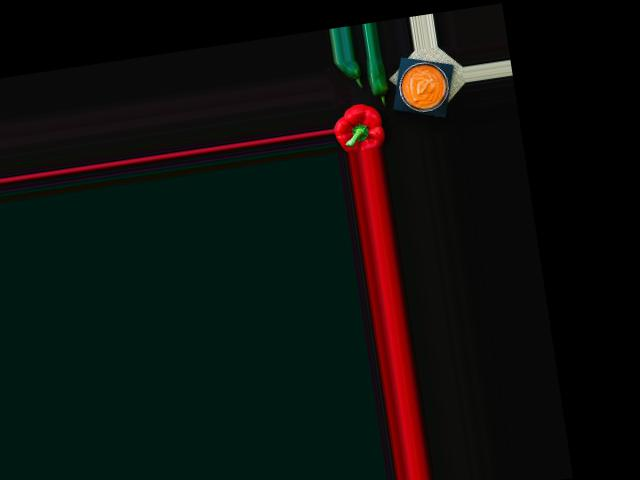bell_pepper: (332, 102, 386, 153)
